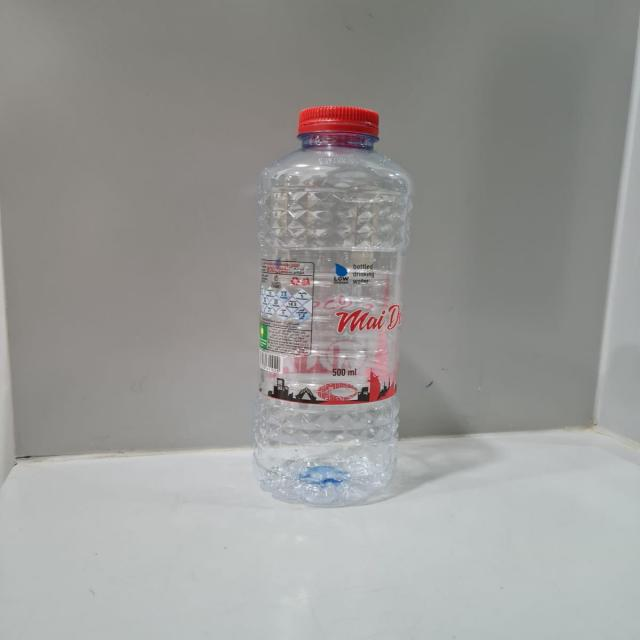bottle: (233, 83, 423, 530)
